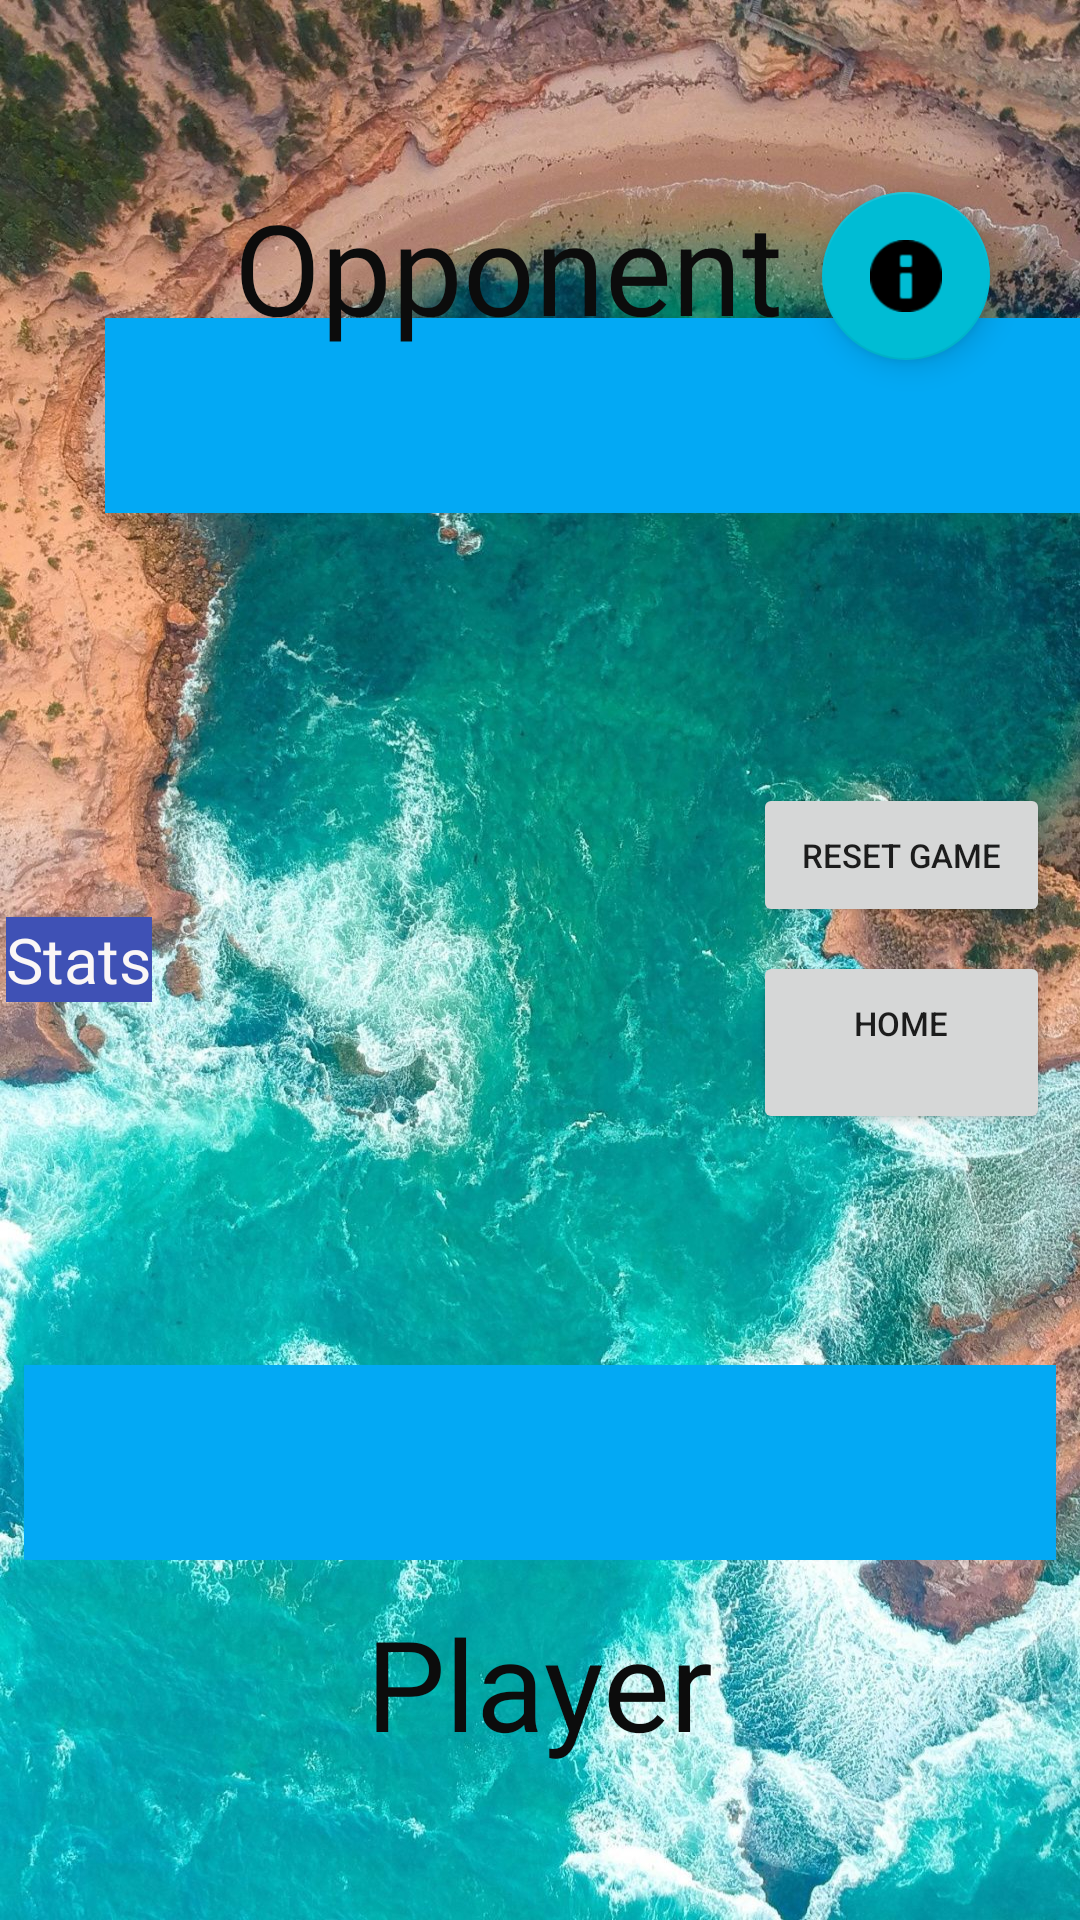

Point at icon controls on the screen. Image size 1080x1920, points as [x,y].
info: [906,276]
